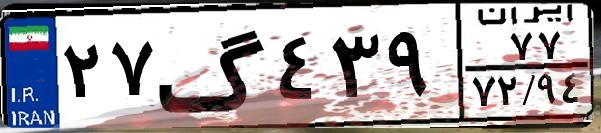2: (57, 26, 110, 100), (495, 70, 520, 125)
3: (330, 28, 385, 110)
4: (270, 28, 330, 110), (560, 70, 590, 125)
7: (110, 28, 156, 98), (537, 27, 568, 80), (508, 27, 537, 80), (470, 70, 495, 125)
9: (385, 28, 445, 110), (535, 70, 560, 125)
گ: (156, 12, 270, 120)
